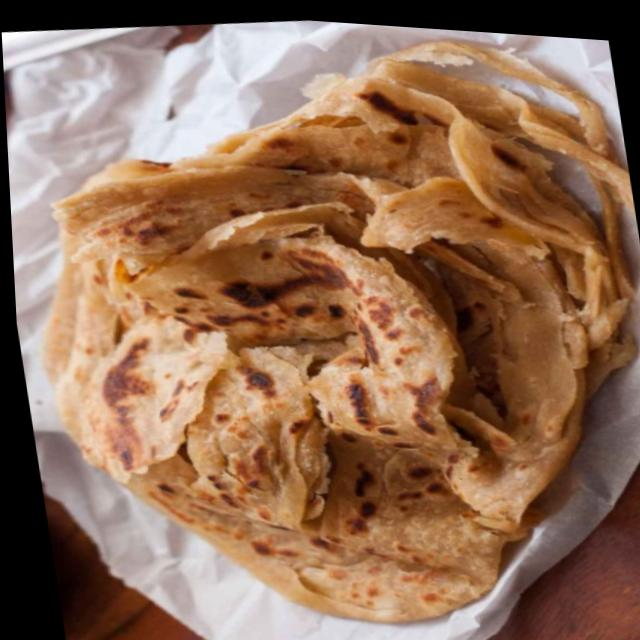PAROTTA: (37, 34, 637, 626)
